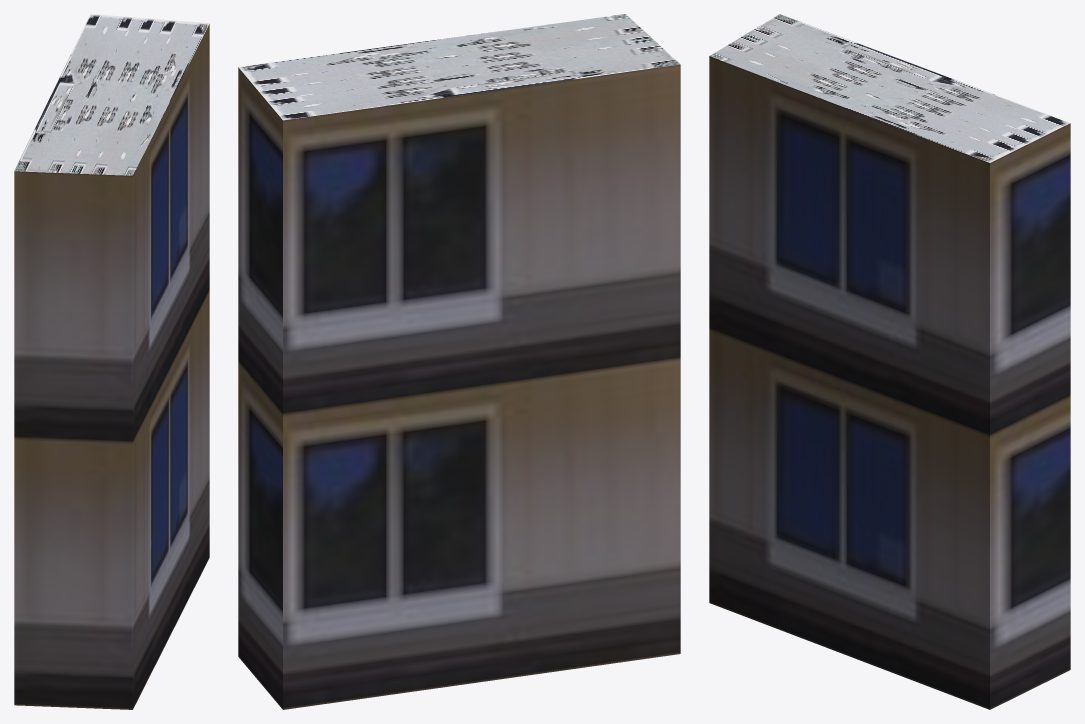
File: ResTex__4228.fbx
3 renders of one model, left to right at view 1: azimuth 30°, elevation 25°; view 2: azimuth 150°, elevation 25°; view 3: azimuth 270°, elevation 25°, orthographic. The views are drawn at different scales.
Visible parts, largest first — view 1: CityEngineMaterial_5_m, CityEngineMaterial_m; view 2: CityEngineMaterial_5_m, CityEngineMaterial_m; view 3: CityEngineMaterial_5_m, CityEngineMaterial_m.
Boxes of the visible parts, box(x1,y1,x2,y2) form: CityEngineMaterial_5_m: box(14, 24, 209, 709); CityEngineMaterial_m: box(14, 14, 209, 175); CityEngineMaterial_5_m: box(238, 64, 680, 709); CityEngineMaterial_m: box(238, 14, 680, 120); CityEngineMaterial_5_m: box(709, 56, 1070, 709); CityEngineMaterial_m: box(709, 14, 1070, 162).
Size of the model in its own units: 3.51 by 6 by 3.59.
2 materials, 2 textured.
